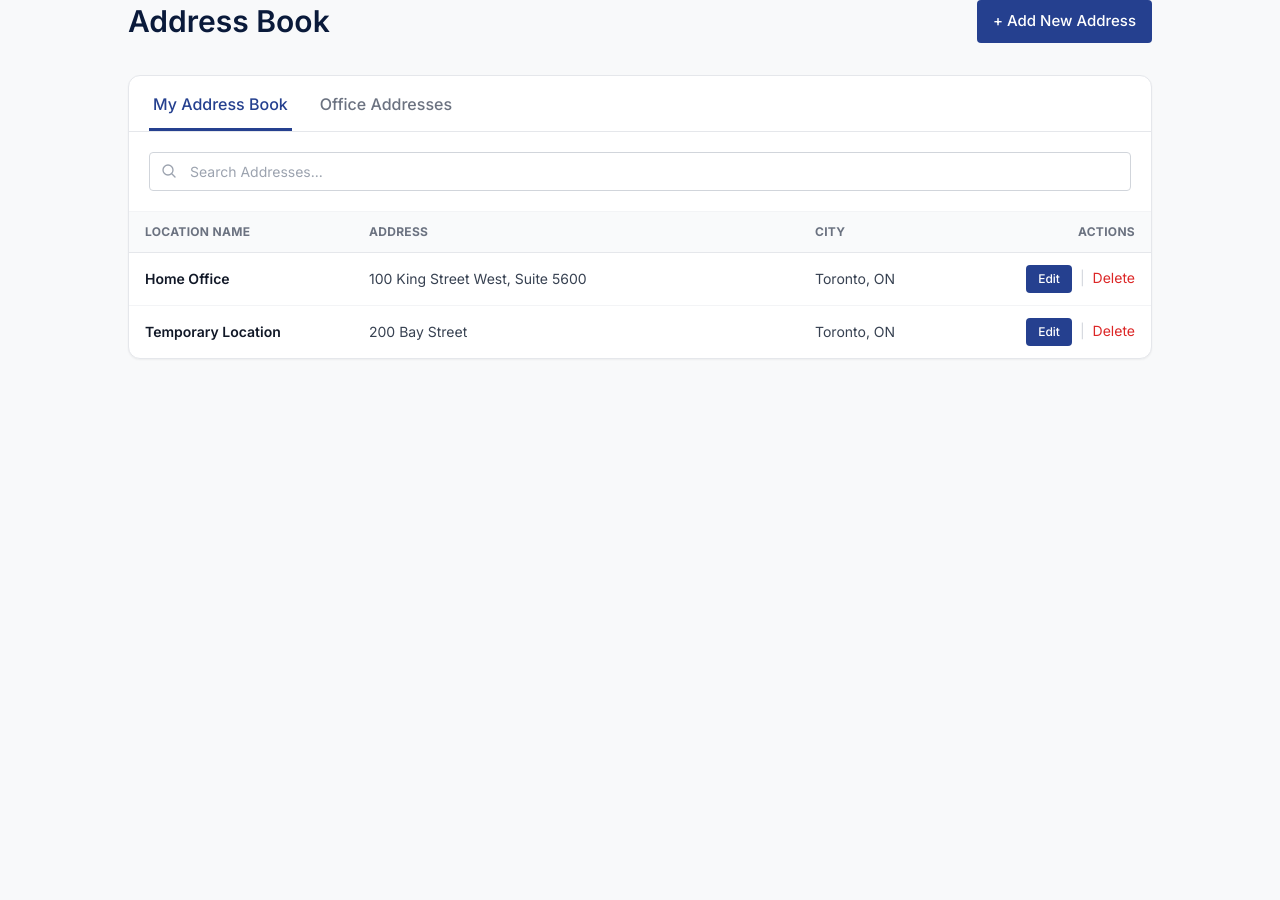
Test case: AddressBookPage › AB-04 + Add New Address opens the form modal
Click the button "+ Add New Address": (1064, 21) [977,0,1152,42]
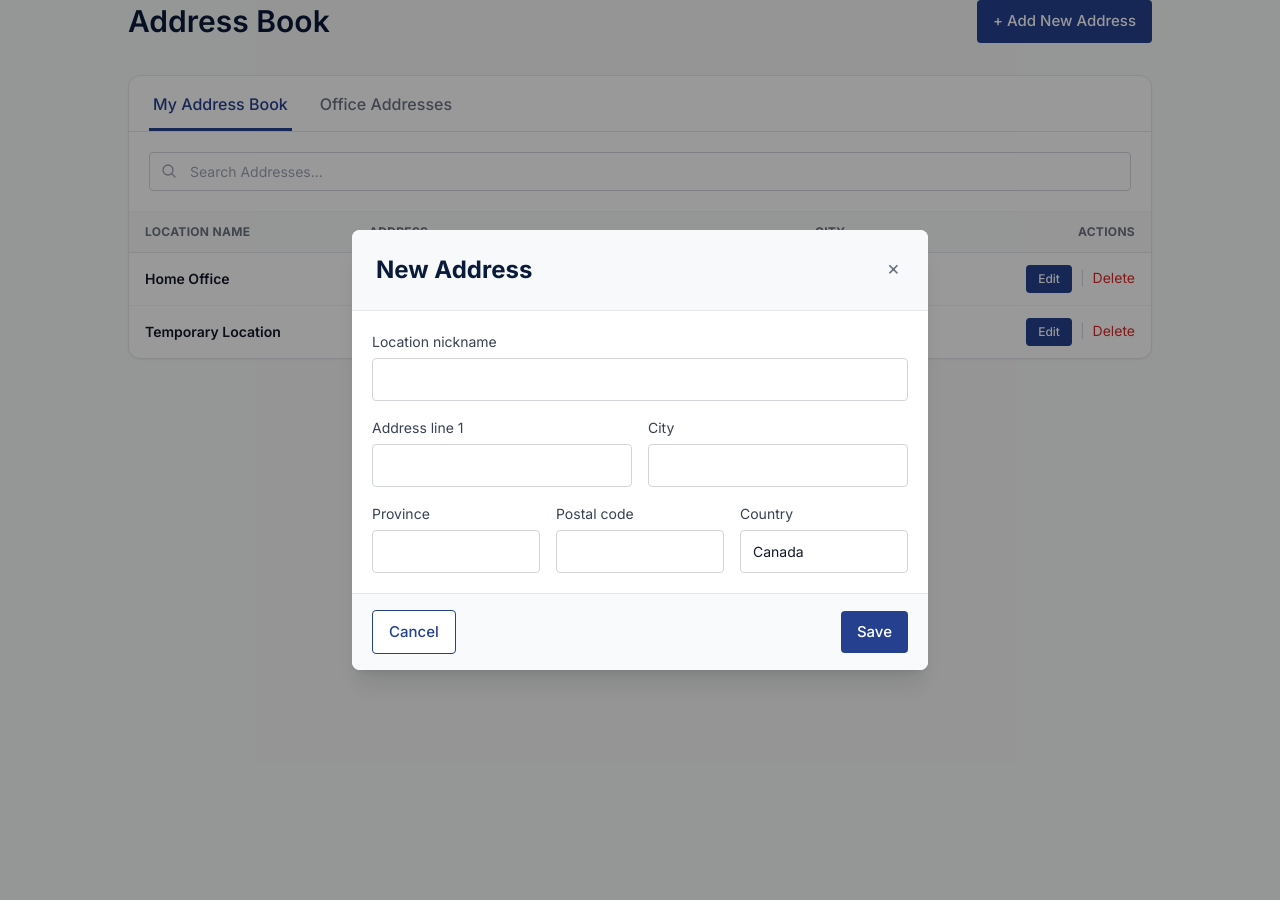
Check: the dialog is shown
Check: the field with id "addr-nickname" is shown, box [372,358,908,401]
